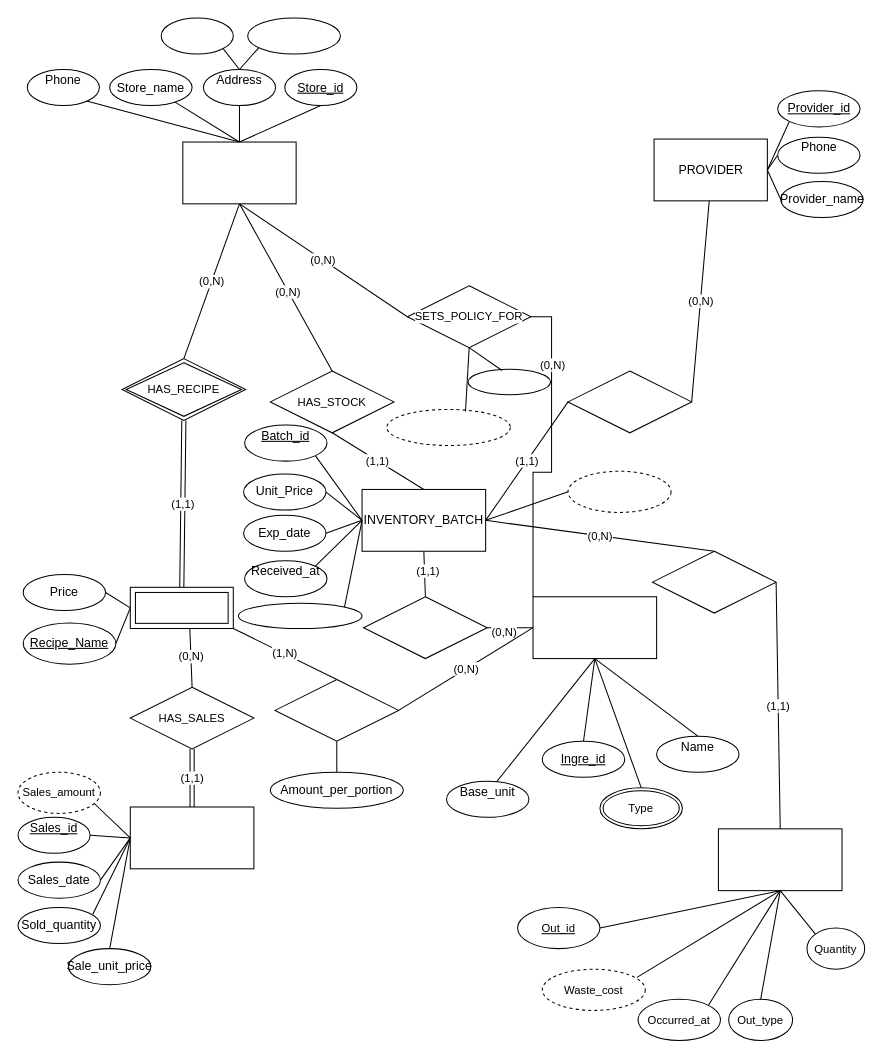
Some shapes in this 883 by 1059 pixel diagram are drawn without their labels. The box of each missing label's shape, as (x1, y1, x2, y2) in pixels:
CONSISTS_OF: (274, 678, 399, 741)
Current_quantity: (567, 470, 671, 512)
Detailed_addr: (247, 17, 340, 54)
Expected_depletion_ date: (386, 408, 510, 445)
HAS_OUTFLOW: (651, 550, 776, 613)
INGREDIENT: (532, 596, 657, 659)
IS_BATCH_OF: (363, 596, 487, 659)
Received_quantity: (237, 602, 362, 629)
RECIPE: (129, 586, 233, 629)
Reorder_point: (467, 368, 551, 395)
SALE: (129, 806, 254, 869)
STOCK_OUT: (717, 828, 842, 891)
STORE: (182, 141, 296, 204)
SUPPLIES: (567, 370, 692, 433)
Zip_code: (160, 17, 233, 54)
